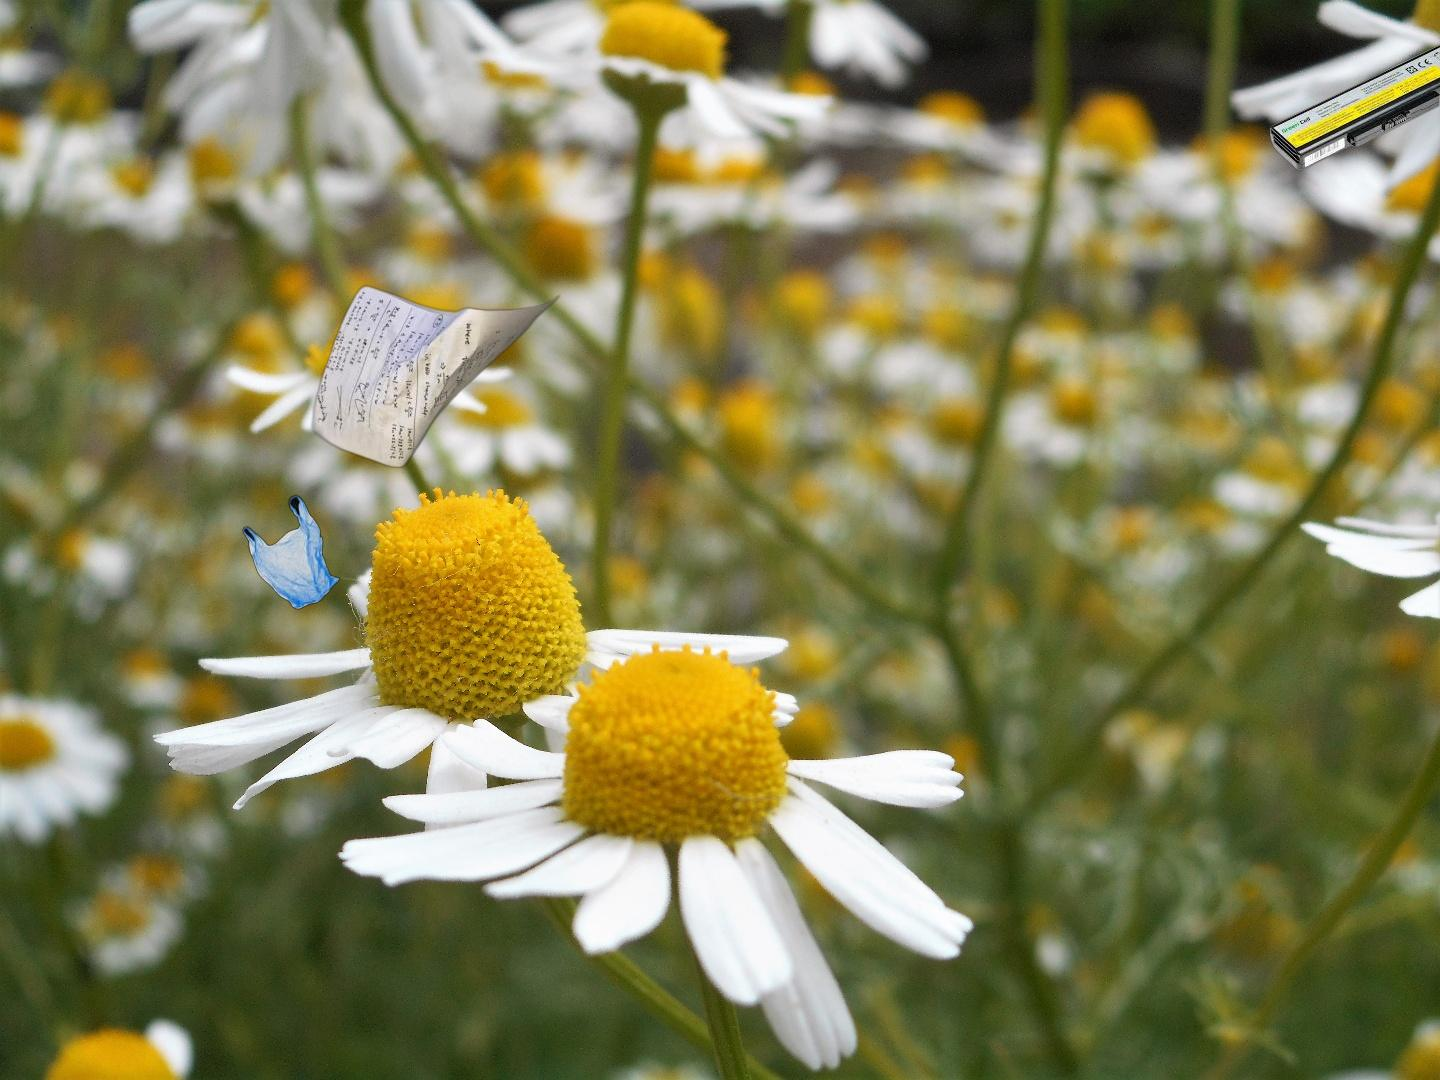battery: (1267, 32, 1440, 172)
paper: (310, 282, 562, 469)
plastic-bag: (240, 493, 341, 610)
